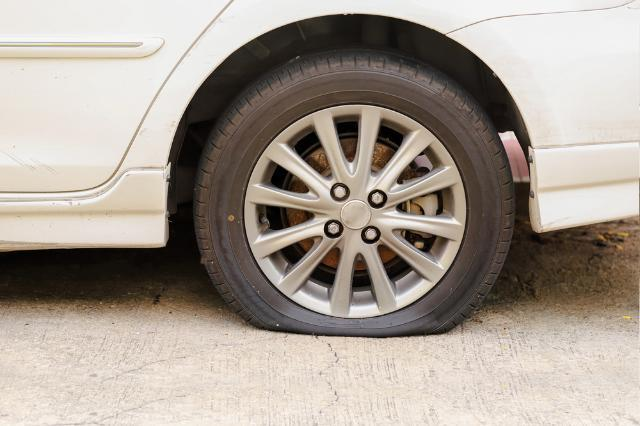tire flat: (194, 47, 517, 339)
